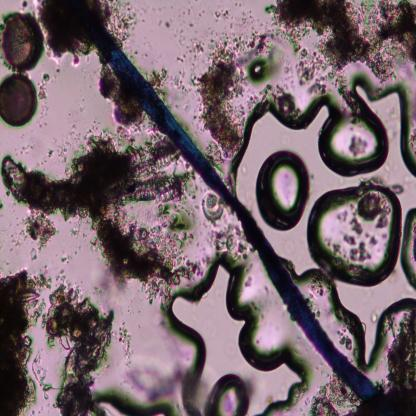Air bubble: (215, 71, 416, 193), (161, 253, 306, 416), (303, 266, 416, 367), (308, 183, 402, 290), (254, 150, 310, 232), (202, 373, 251, 415), (90, 392, 174, 415), (401, 204, 416, 294)
Background material: (264, 0, 416, 81), (0, 135, 124, 221), (88, 204, 200, 294), (46, 286, 118, 414), (0, 272, 48, 416), (352, 308, 416, 412), (200, 39, 248, 159), (39, 0, 108, 58), (287, 34, 337, 96), (124, 358, 185, 406), (247, 30, 283, 84), (310, 376, 360, 414), (20, 209, 54, 264), (100, 70, 133, 121), (258, 84, 301, 118), (102, 1, 136, 43), (355, 190, 391, 228), (212, 221, 244, 262), (332, 72, 359, 116), (339, 215, 366, 247), (117, 317, 134, 367), (149, 60, 171, 98), (348, 131, 369, 158), (349, 242, 372, 262), (183, 172, 198, 202), (37, 74, 50, 99), (212, 7, 231, 22), (62, 253, 74, 262), (163, 20, 171, 29)
Diatom: (102, 148, 184, 205), (0, 10, 46, 73), (0, 74, 39, 128), (201, 191, 224, 222), (56, 301, 76, 326), (21, 290, 40, 304), (69, 326, 84, 343), (46, 316, 58, 337)
